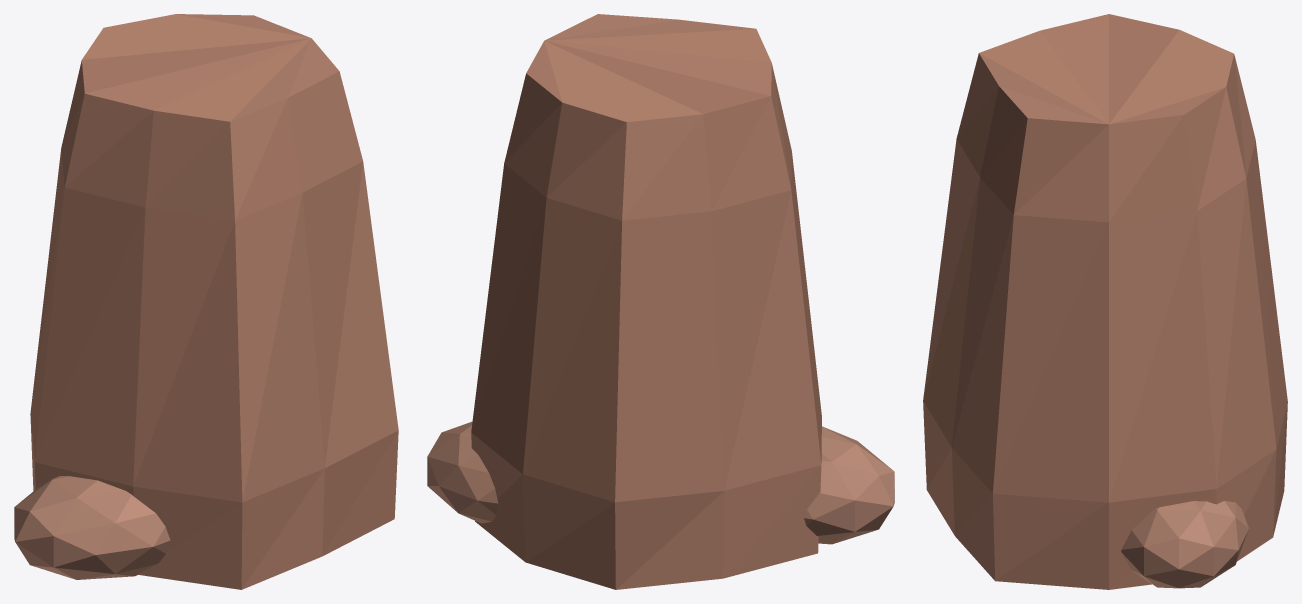
Rendered from mesa_tall.glb.
3 views of the same model, side by side, from view 1: azimuth 30°, elevation 25°; view 2: azimuth 150°, elevation 25°; view 3: azimuth 270°, elevation 25° (orthographic).
Visible parts, largest first — view 1: main_mesa, base_rock_1; view 2: main_mesa, base_rock_1, base_rock_2; view 3: main_mesa, base_rock_2.
Part boxes in pixels (<box>): main_mesa: <box>30,14,398,589</box>; base_rock_1: <box>14,476,170,579</box>; main_mesa: <box>471,14,821,589</box>; base_rock_1: <box>804,426,894,544</box>; base_rock_2: <box>427,421,498,523</box>; main_mesa: <box>923,14,1287,589</box>; base_rock_2: <box>1121,501,1248,588</box>.
Bounding box in the file's own units: 2.65 × 2.87 × 2.08.
